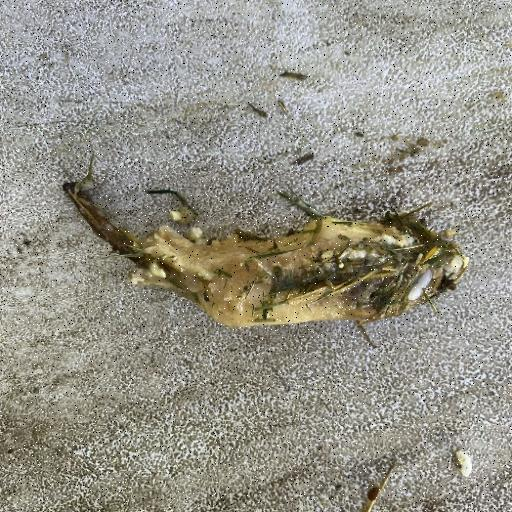Waste: (60, 152, 470, 338)
